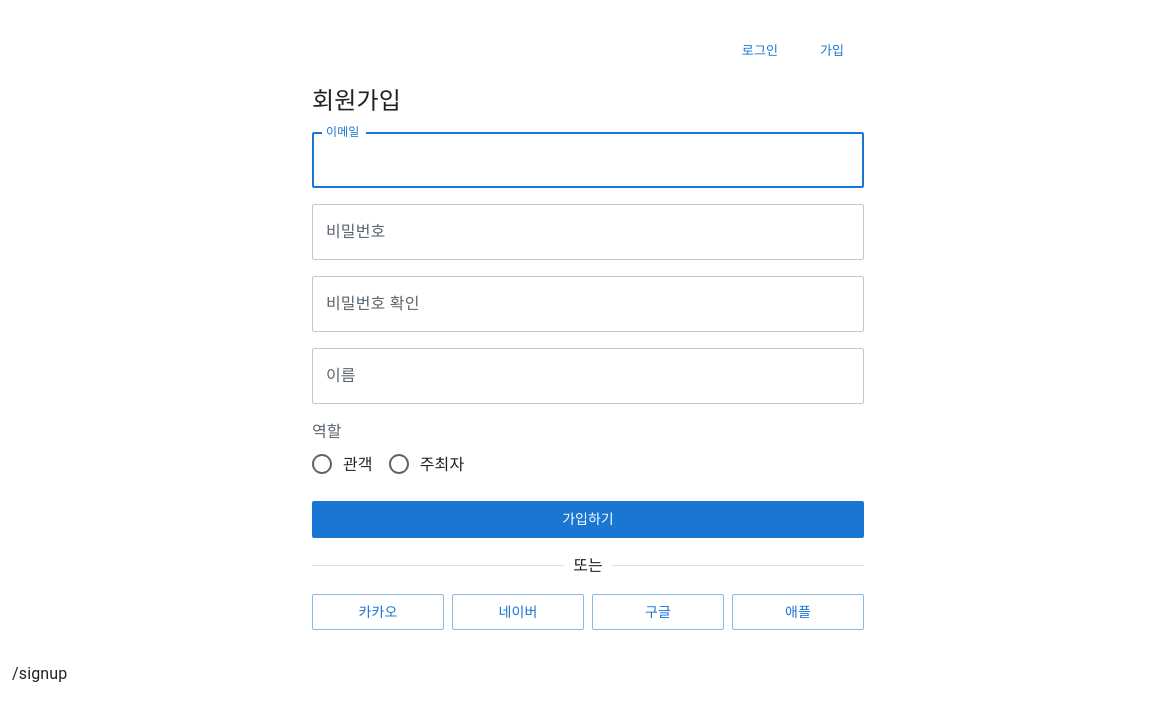
TASK-010 이메일 회원가입/로그인 화면 › SC-03 (happy) 가입에 성공하면 역할(주최자→ORGANIZER) 포함해 요청하고 로그인 화면으로 이동한다
This screenshot has width=1164, height=720.
Type "hong@example.com" into the field labelled "이메일" at (588,160), box [312, 132, 864, 188]
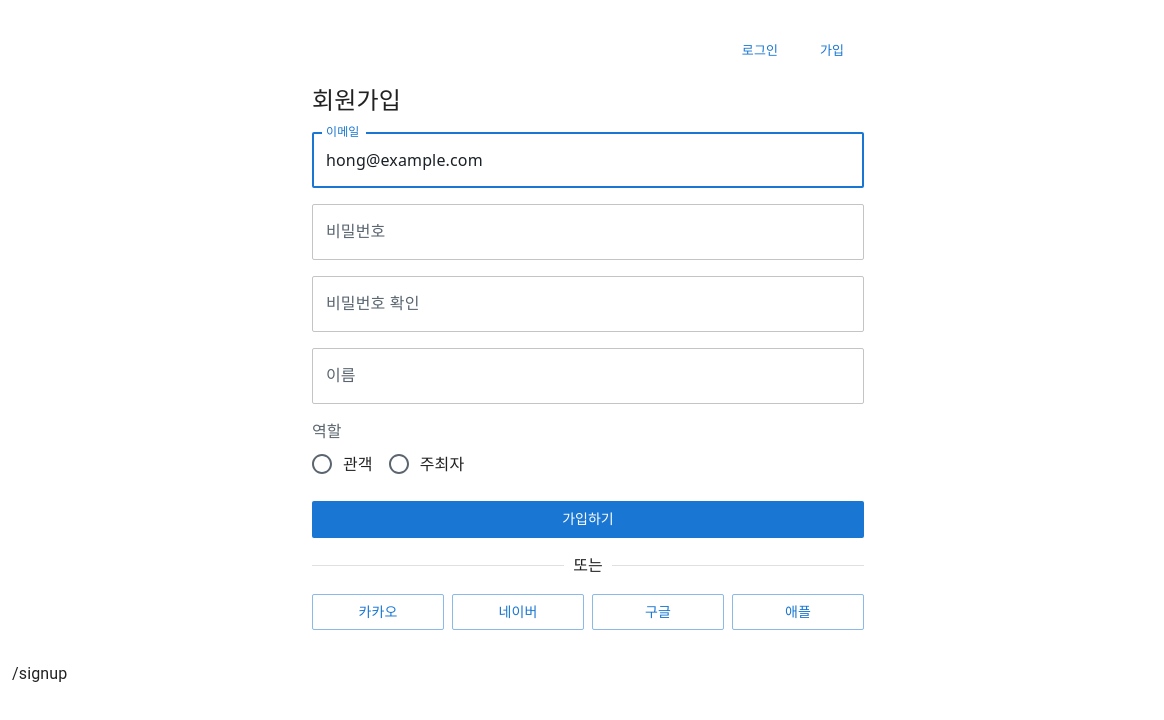
Type "password1!" into the password field labelled "비밀번호" at (588,232), box [312, 204, 864, 260]
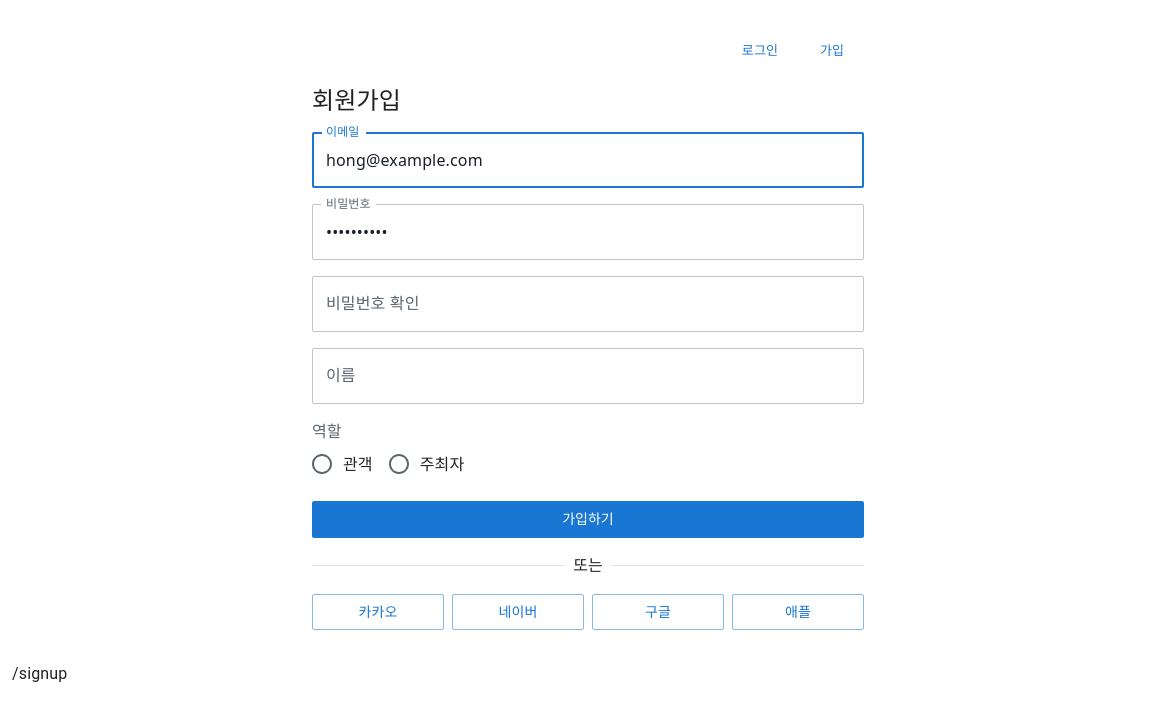
Type "password1!" into the password field labelled "비밀번호 확인" at (588,304), box [312, 276, 864, 332]
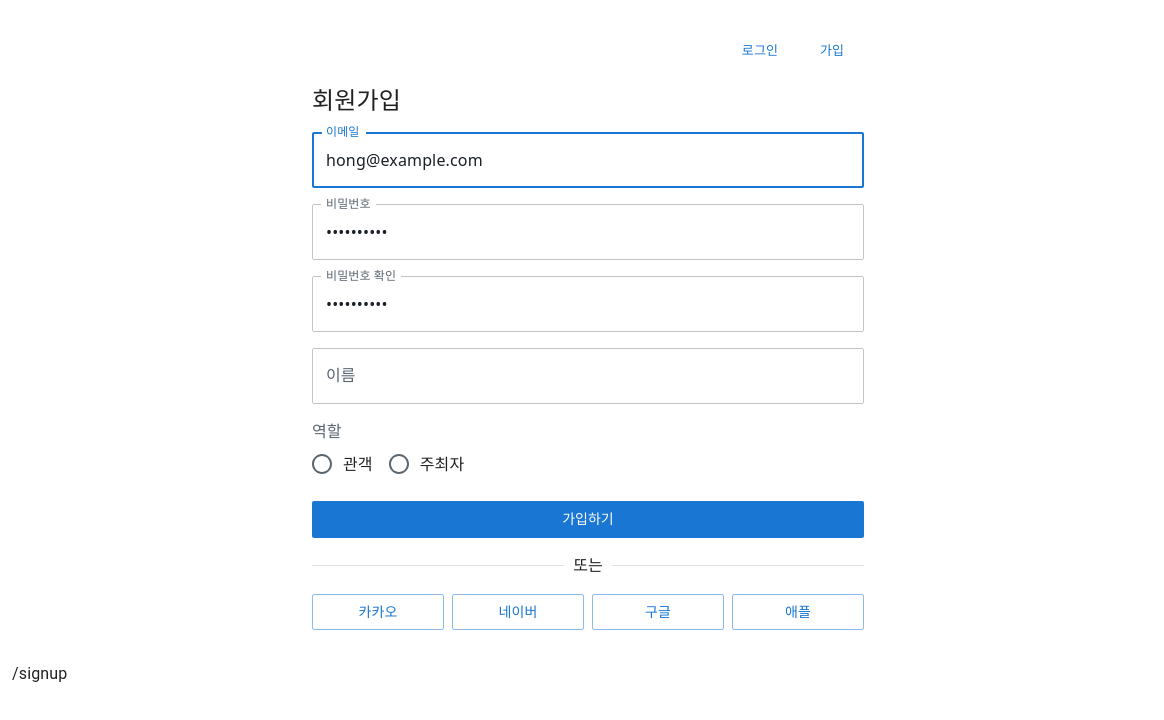
Type "홍길동" into the field labelled "이름" at (588,376), box [312, 348, 864, 404]
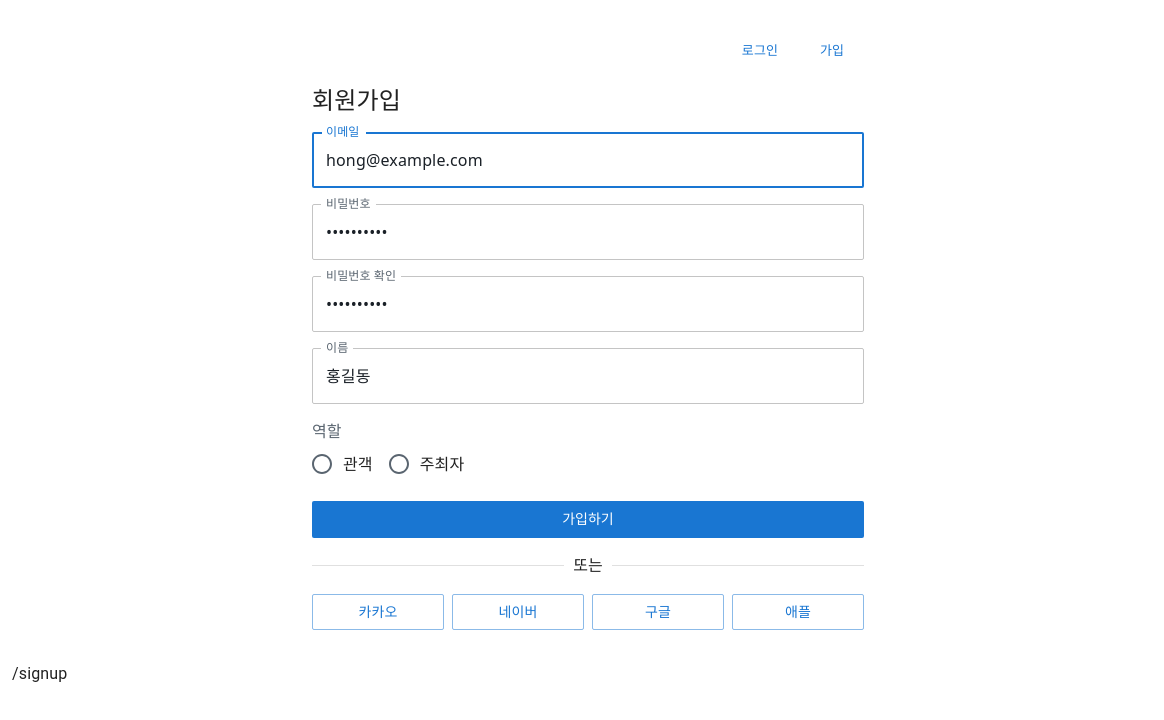
Click the radio button labelled "주최자" at (426,464), box [387, 452, 464, 476]
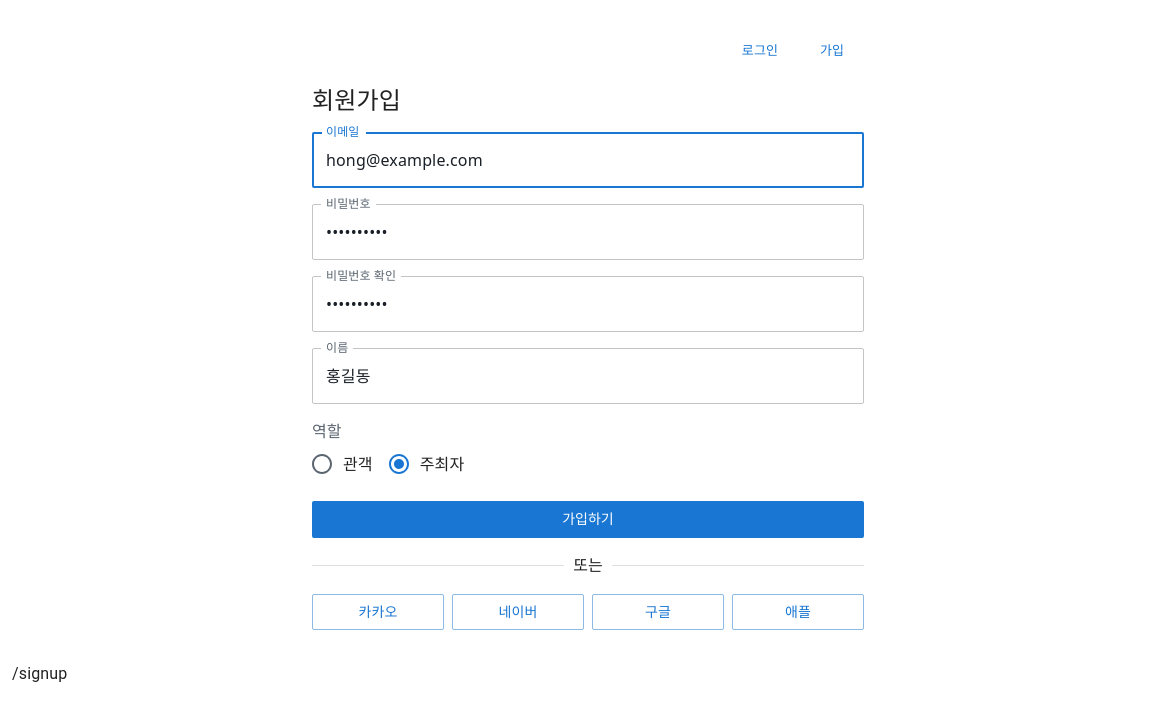
Click the button "가입하기" at (588,520), box [312, 501, 864, 538]
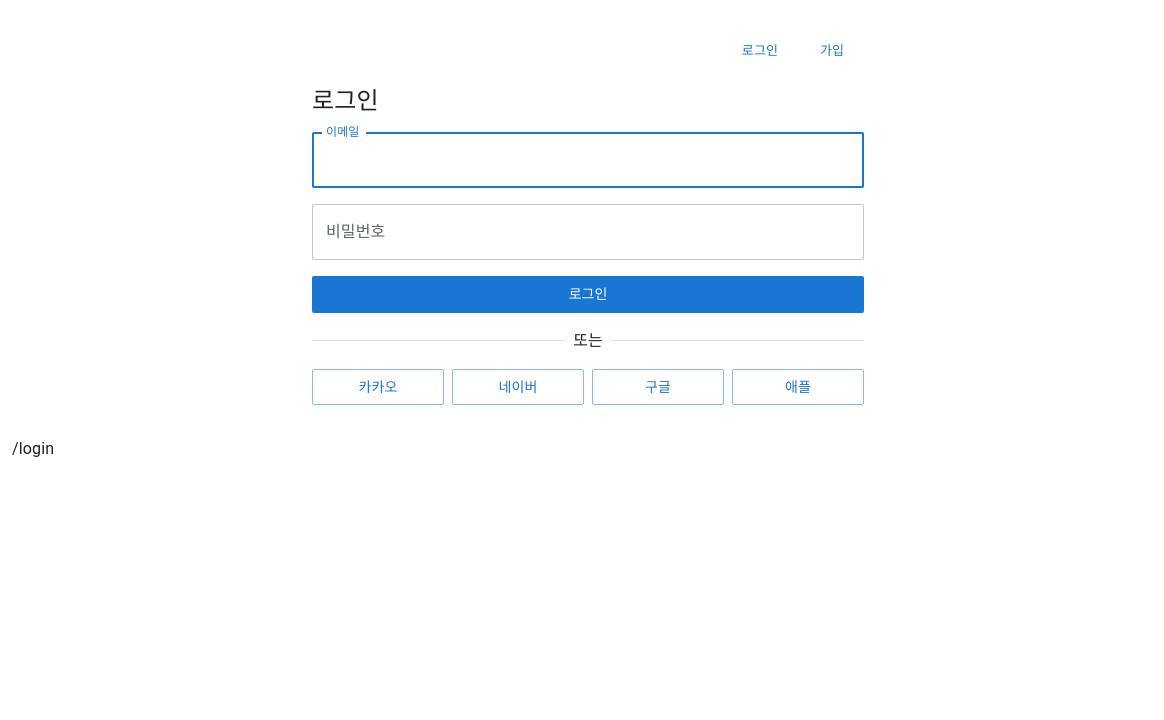
Expected: the text with test id "where" reads "/login", [12, 439, 54, 458]
Expected: the button "로그인" is shown, [312, 276, 864, 313]
